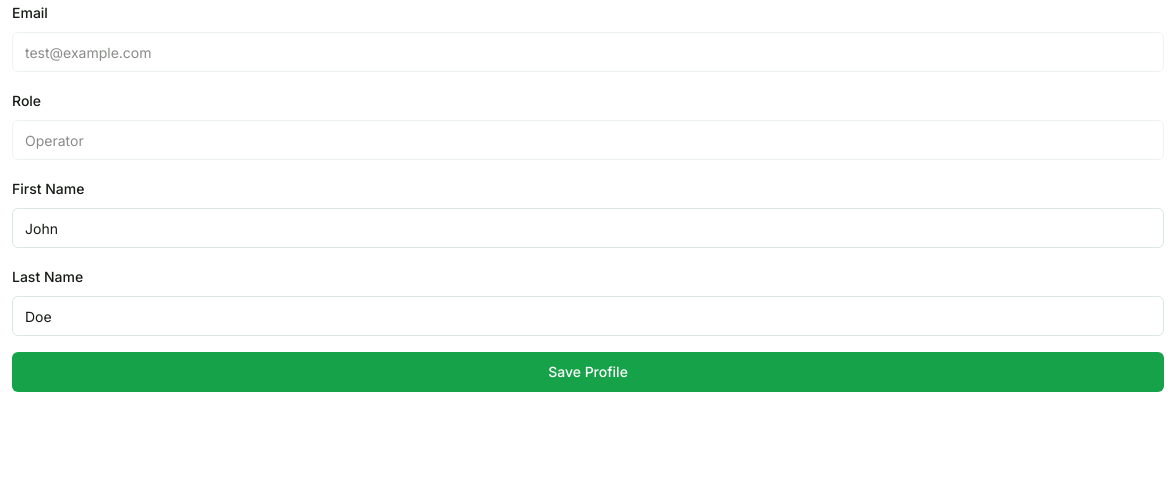
Test: ProfileForm › shows API error in alert on failed mutation
This screenshot has width=1176, height=479.
Click the button "Save Profile". click: click(588, 372)
box: [12,352,1164,392]
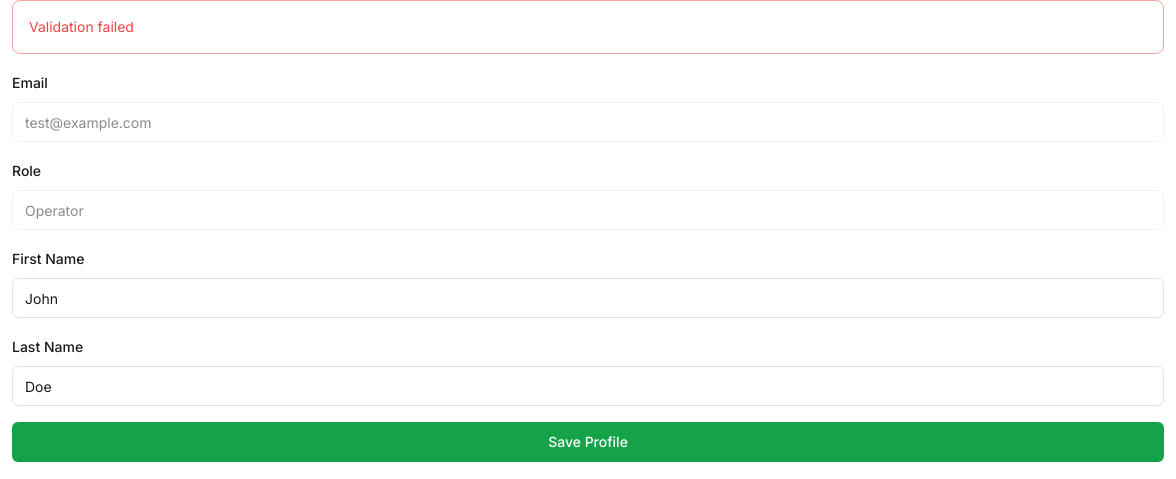
Now the text "Validation failed" is shown, box [29,18,134,35]
